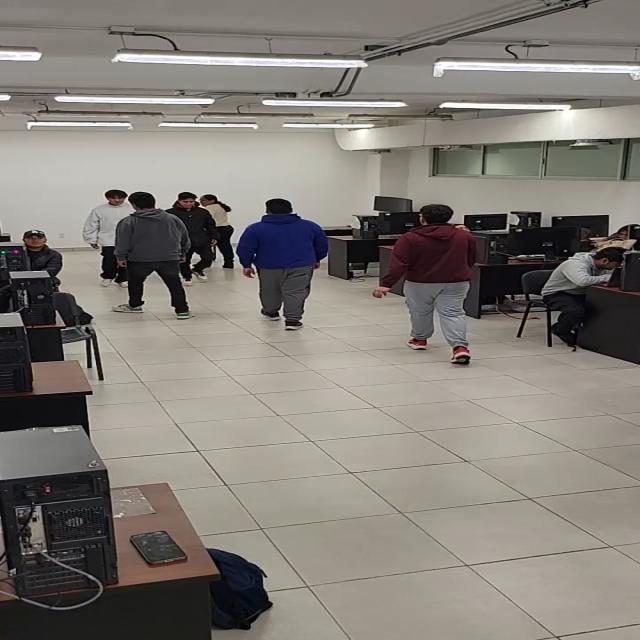Persona: (394, 202, 481, 366), (236, 196, 324, 331), (123, 191, 179, 321), (174, 190, 221, 272), (86, 186, 128, 264), (199, 187, 242, 246)
